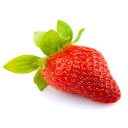strawberry: (34, 36, 121, 106)
